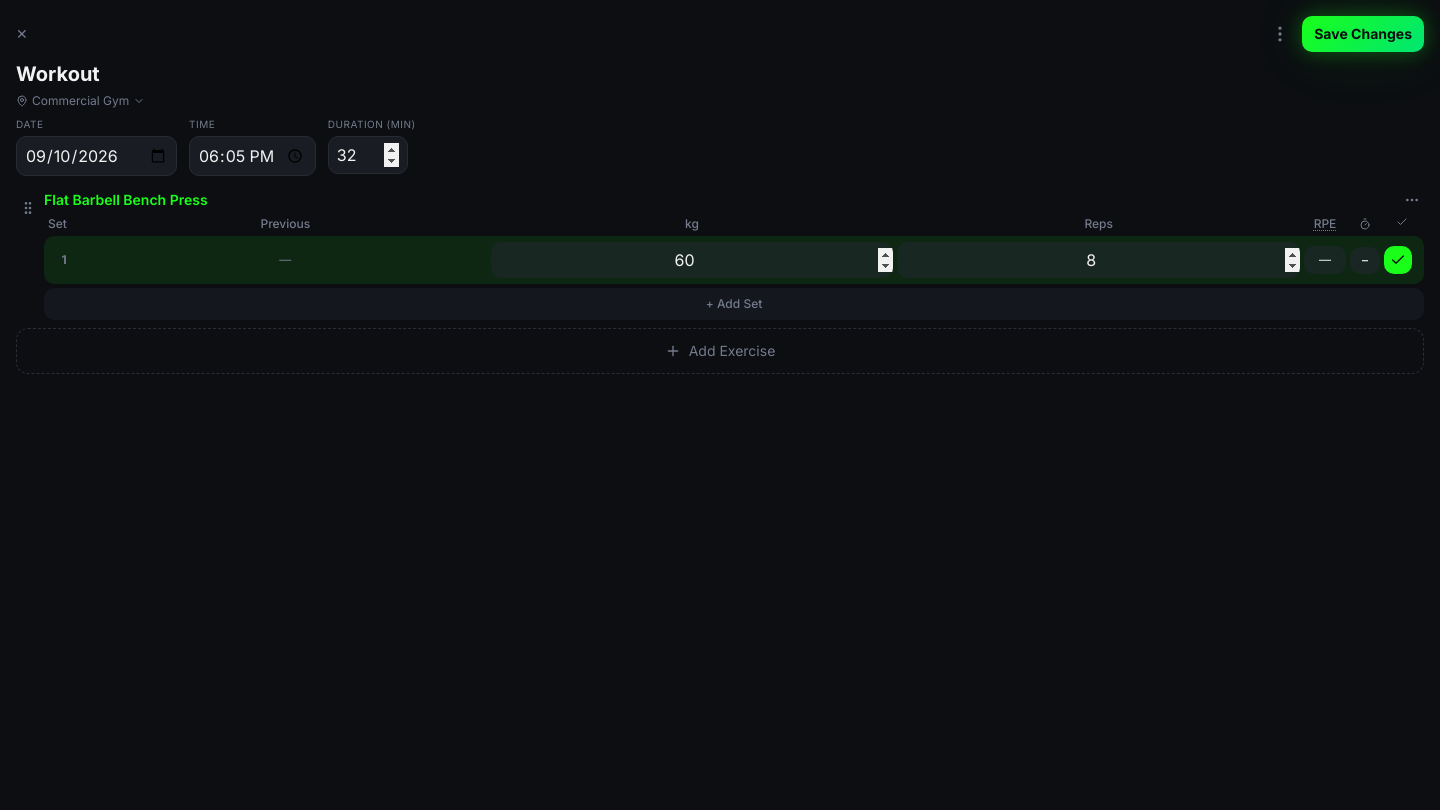
it: leaving an edit of a past workout › asks about the date, time, duration and note fields too
Replace the text in the number field showing "32" below "Duration (min)" with "35" at {"x": 368, "y": 155}, box [328,136,408,174]
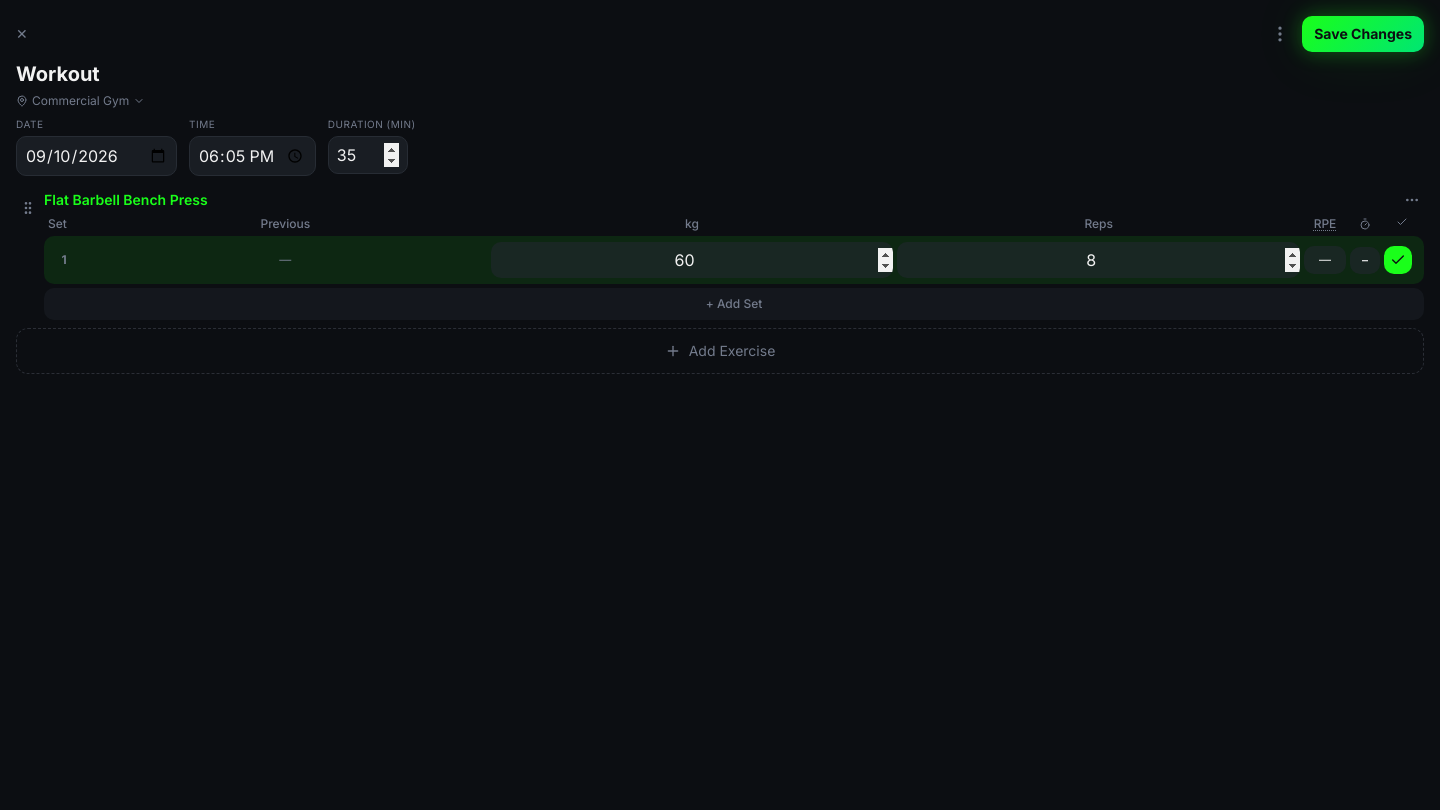
Click the button named "Cancel editing" at {"x": 22, "y": 34}, box [16,24,28,44]
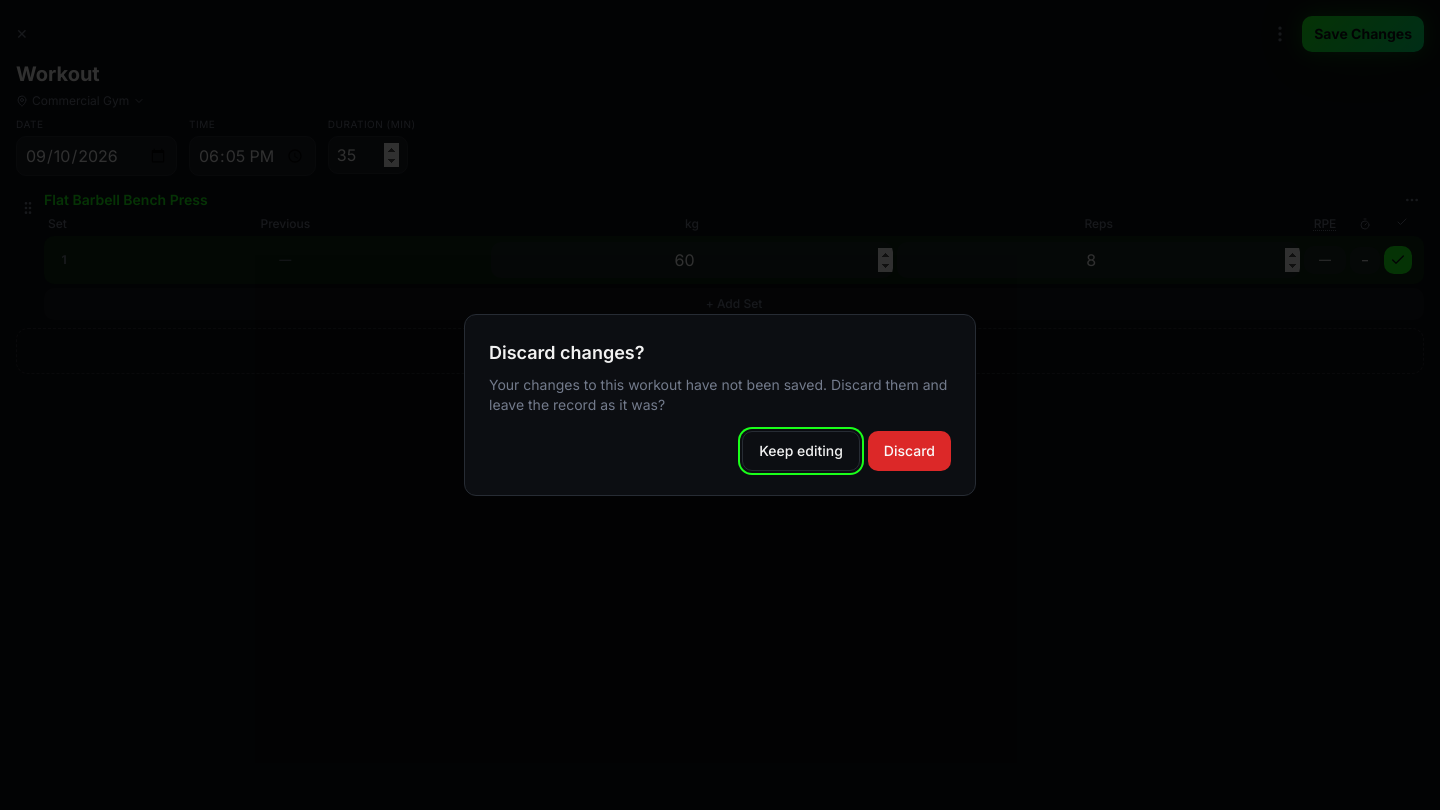
Now the heading "Discard changes?" is shown, box [489,342,644,363]
